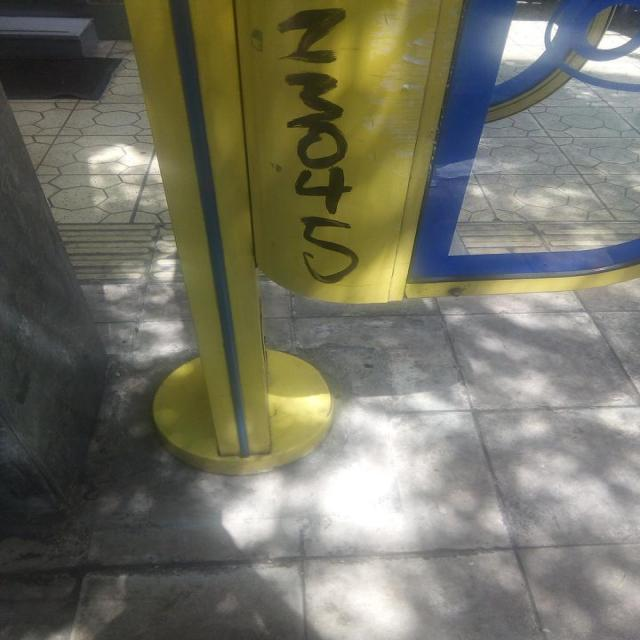nonspitting: (281, 8, 362, 288)
